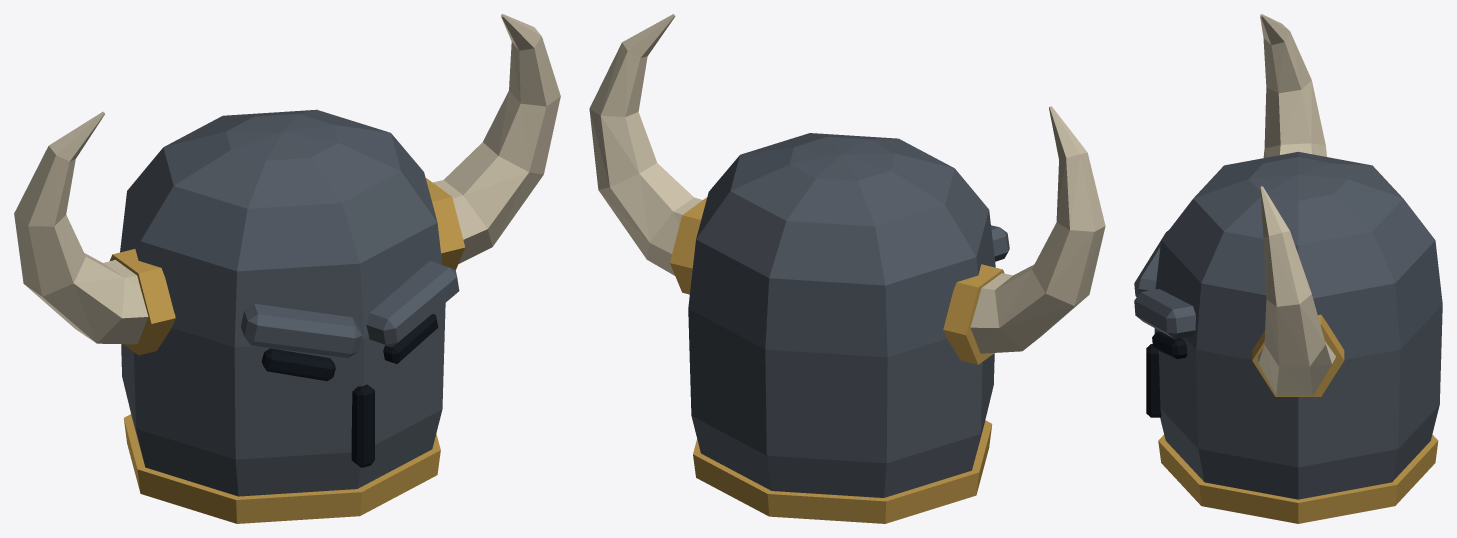
File: Hat_Horns.fbx
3 views of the same model, side by side, from view 1: azimuth 30°, elevation 25°; view 2: azimuth 150°, elevation 25°; view 3: azimuth 270°, elevation 25° (orthographic). The views are drawn at different scales.
Visible parts, largest first — view 1: Helm, Horns, HelmTrim, HelmVisor; view 2: Helm, Horns, HelmTrim; view 3: Helm, Horns, HelmTrim, HelmVisor.
Part boxes in pixels (box(x1,y1,x2,y2)): Helm: box(120, 109, 459, 496); Horns: box(14, 14, 560, 344); HelmTrim: box(110, 178, 465, 523); HelmVisor: box(261, 314, 438, 467); Helm: box(688, 133, 1009, 497); Horns: box(589, 14, 1105, 353); HelmTrim: box(670, 197, 1004, 523); Helm: box(1134, 151, 1442, 499); Horns: box(1257, 14, 1335, 396); HelmTrim: box(1158, 314, 1438, 523); HelmVisor: box(1146, 331, 1187, 417).
Bounding box in the file's own units: 3.55 × 2.61 × 2.01.
